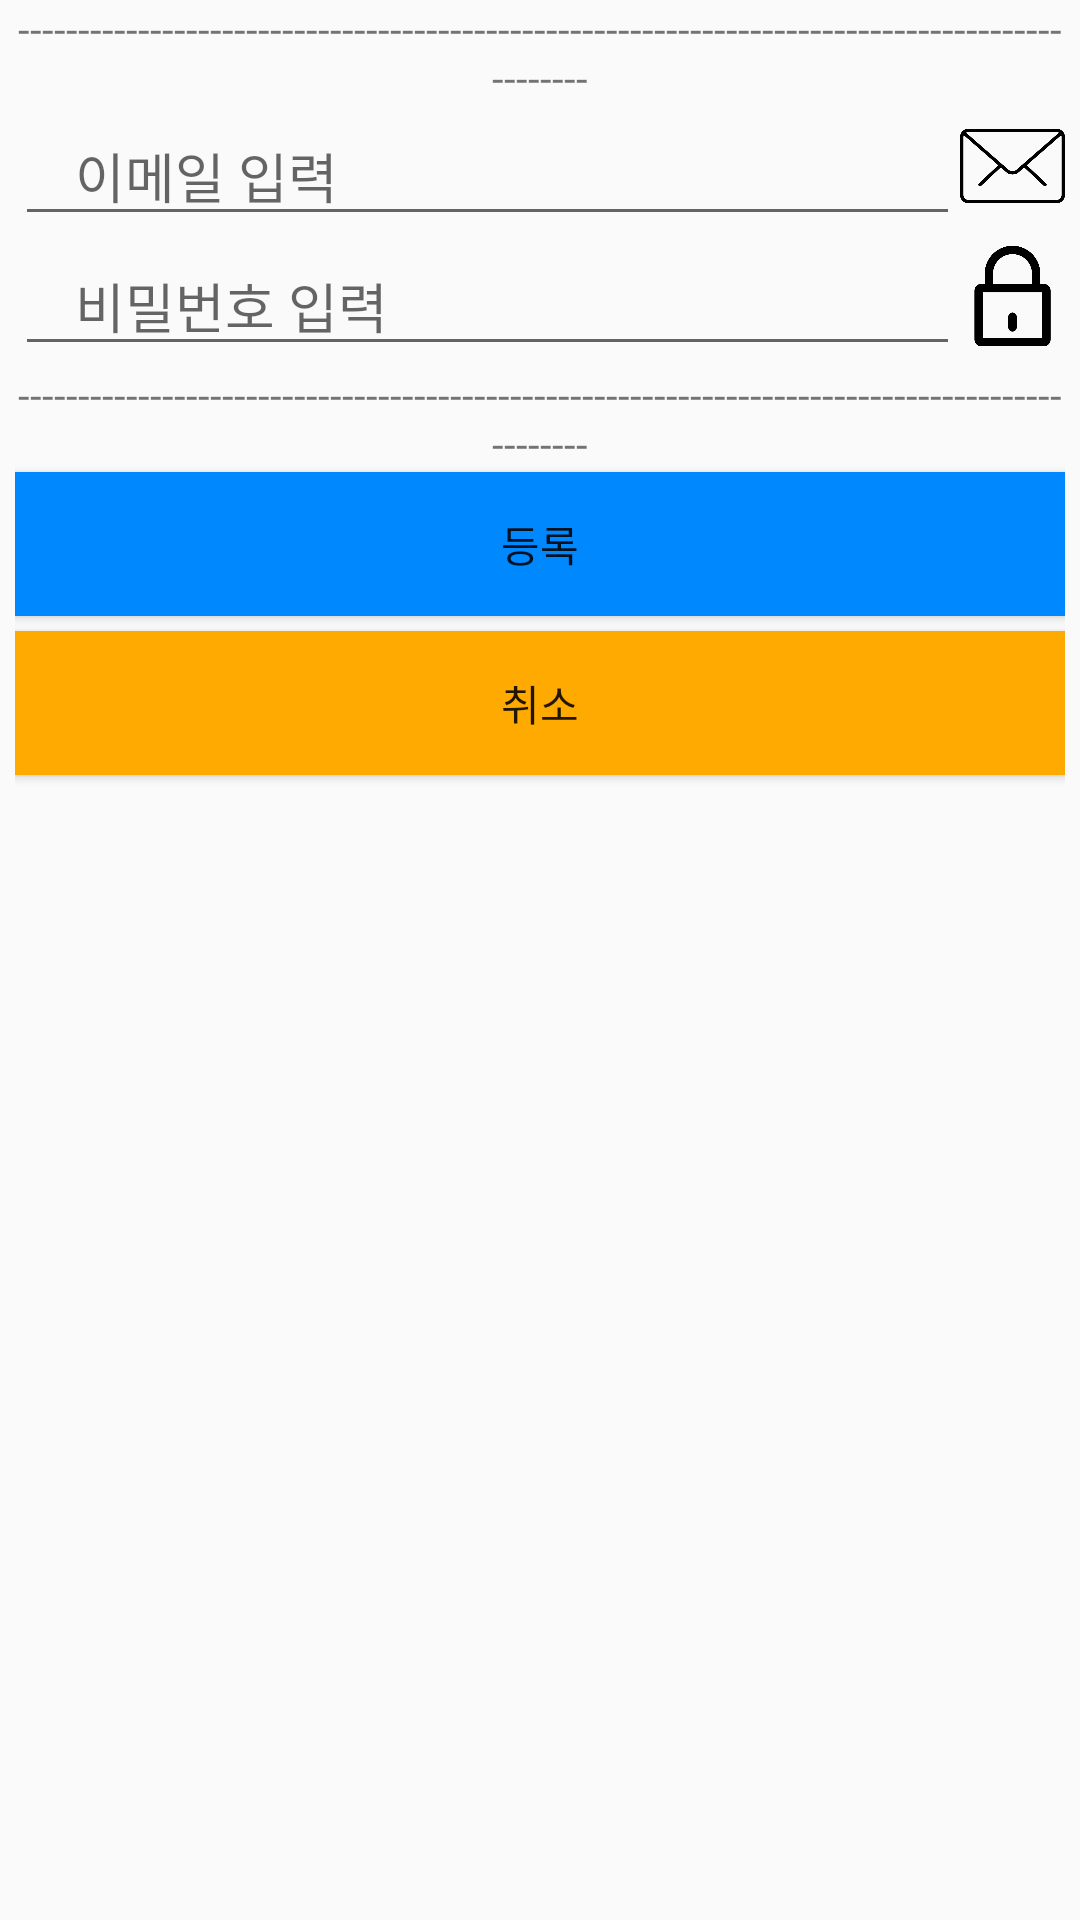

Named icons in this screenshot (1080×1920) and their centers, (x=x, y=y):
mail: (x=1012, y=166)
padlock: (x=1012, y=296)
